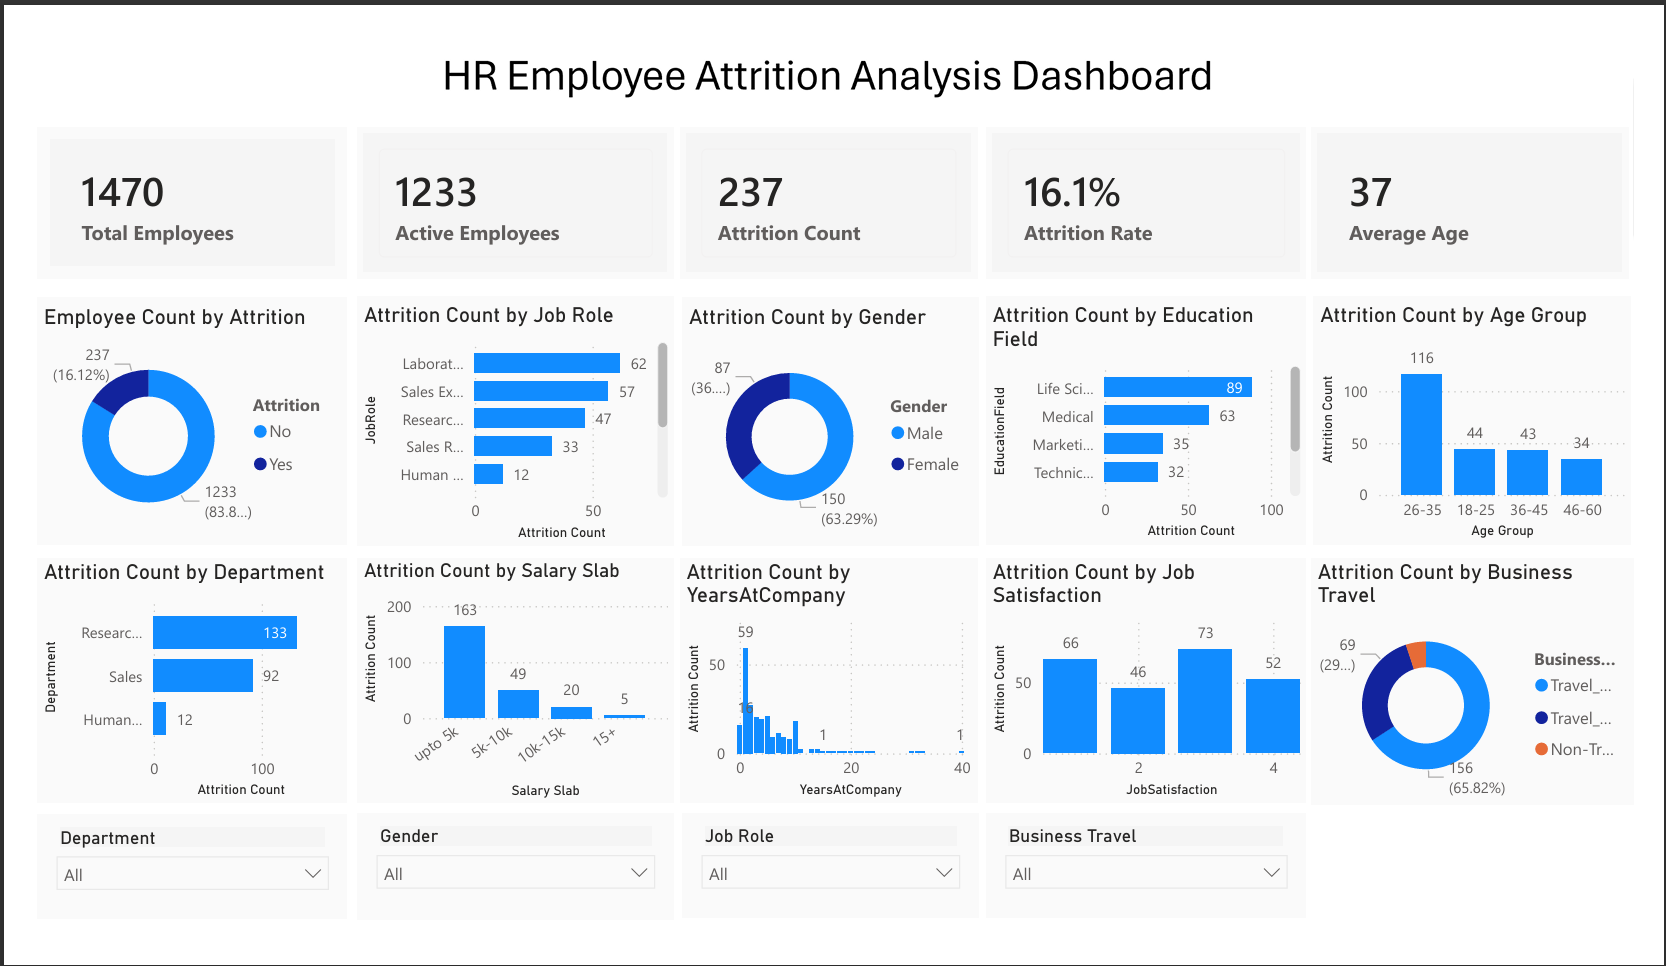

Layout of this report page (visuals, bound fields, positions):
{"tool":"powerbi","page":{"name":"Page 1","canvas":[1280,720],"ordinal":0},"visuals":[{"type":"donutChart","fields":{"Category":["HR_Analytics.Attrition"],"Y":["HR_Analytics.Total Employee"]},"box":[2.7,209.9,248.4,197.6],"z":0},{"type":"clusteredBarChart","title":"Attrition Count by Job Role","fields":{"Category":["HR_Analytics.JobRole"],"Y":["HR_Analytics.Attrition Count"]},"box":[259.3,208.6,252.5,200.3],"z":1000},{"type":"clusteredBarChart","fields":{"Category":["HR_Analytics.Department"],"Y":["HR_Analytics.Attrition Count"]},"box":[2.7,418.5,248.4,196.2],"z":2000},{"type":"clusteredColumnChart","fields":{"Category":["HR_Analytics.Age Group"],"Y":["HR_Analytics.Attrition Count"]},"box":[1023.7,208.6,253.9,199],"z":3000},{"type":"donutChart","fields":{"Category":["HR_Analytics.Gender"],"Y":["HR_Analytics.Attrition Count"]},"box":[518.7,209.9,237.4,199],"z":4000},{"type":"clusteredBarChart","title":"Attrition Count by Education Field","fields":{"Category":["HR_Analytics.EducationField"],"Y":["HR_Analytics.Attrition Count"]},"box":[761.6,208.6,256.6,199],"z":5000},{"type":"clusteredColumnChart","fields":{"Category":["HR_Analytics.Salary Slab"],"Y":["HR_Analytics.Attrition Count"]},"box":[259.3,418.5,252.5,196.2],"z":6000},{"type":"clusteredColumnChart","fields":{"Category":["HR_Analytics.YearsAtCompany"],"Y":["HR_Analytics.Attrition Count"]},"box":[517.3,418.5,237.4,196.2],"z":7000},{"type":"clusteredColumnChart","title":"Attrition Count by Job Satisfaction","fields":{"Category":["HR_Analytics.JobSatisfaction"],"Y":["HR_Analytics.Attrition Count"]},"box":[761.6,418.5,256.6,196.2],"z":8000},{"type":"donutChart","title":"Attrition Count by Business Travel","fields":{"Category":["HR_Analytics.BusinessTravel"],"Y":["HR_Analytics.Attrition Count"]},"box":[1022.3,418.5,258,197.6],"z":9000},{"type":"slicer","fields":{"Values":["HR_Analytics.Department"]},"box":[2.7,624.4,248.4,83.7],"z":10000},{"type":"slicer","fields":{"Values":["HR_Analytics.BusinessTravel"]},"box":[761.6,623,256.6,83.7],"z":11000},{"type":"slicer","fields":{"Values":["HR_Analytics.Gender"]},"box":[259.3,623,252.5,85.1],"z":12000},{"type":"slicer","fields":{"Values":["HR_Analytics.JobRole"]},"box":[518.7,623,237.4,83.7],"z":13000},{"type":"cardVisual","fields":{"Data":["HR_Analytics.Employee Count"]},"box":[2.7,74.1,248.4,120.8],"z":14000},{"type":"cardVisual","fields":{"Data":["HR_Analytics.Active Employee"]},"box":[259.3,74.1,252.5,120.8],"z":15000},{"type":"cardVisual","fields":{"Data":["HR_Analytics.Attrition Count"]},"box":[517.3,74.1,237.4,120.8],"z":16000},{"type":"cardVisual","fields":{"Data":["HR_Analytics.Attrition Rate"]},"box":[761.6,74.1,256.6,120.8],"z":17000},{"type":"cardVisual","fields":{"Data":["HR_Analytics.average age"]},"box":[1022.3,74.1,253.9,120.8],"z":18000},{"type":"image","box":[60.4,0,1149.9,74.1],"z":19000}]}

Visuals, with their boxes in screenshot pixels (x1, y1, x2, y2), scaled from the page's 1280x720 canvas onto the 1666x966 screenshot:
donutChart - HR_Analytics.Attrition x HR_Analytics.Total Employee: region(4, 282, 327, 547)
"Attrition Count by Job Role" clusteredBarChart: region(337, 280, 666, 549)
clusteredBarChart - HR_Analytics.Department x HR_Analytics.Attrition Count: region(4, 561, 327, 825)
clusteredColumnChart - HR_Analytics.Age Group x HR_Analytics.Attrition Count: region(1332, 280, 1663, 547)
donutChart - HR_Analytics.Gender x HR_Analytics.Attrition Count: region(675, 282, 984, 549)
"Attrition Count by Education Field" clusteredBarChart: region(991, 280, 1325, 547)
clusteredColumnChart - HR_Analytics.Salary Slab x HR_Analytics.Attrition Count: region(337, 561, 666, 825)
clusteredColumnChart - HR_Analytics.YearsAtCompany x HR_Analytics.Attrition Count: region(673, 561, 982, 825)
"Attrition Count by Job Satisfaction" clusteredColumnChart: region(991, 561, 1325, 825)
"Attrition Count by Business Travel" donutChart: region(1331, 561, 1665, 827)
slicer - HR_Analytics.Department: region(4, 838, 327, 950)
slicer - HR_Analytics.BusinessTravel: region(991, 836, 1325, 948)
slicer - HR_Analytics.Gender: region(337, 836, 666, 950)
slicer - HR_Analytics.JobRole: region(675, 836, 984, 948)
cardVisual - HR_Analytics.Employee Count: region(4, 99, 327, 261)
cardVisual - HR_Analytics.Active Employee: region(337, 99, 666, 261)
cardVisual - HR_Analytics.Attrition Count: region(673, 99, 982, 261)
cardVisual - HR_Analytics.Attrition Rate: region(991, 99, 1325, 261)
cardVisual - HR_Analytics.average age: region(1331, 99, 1661, 261)
image: region(79, 0, 1575, 99)
